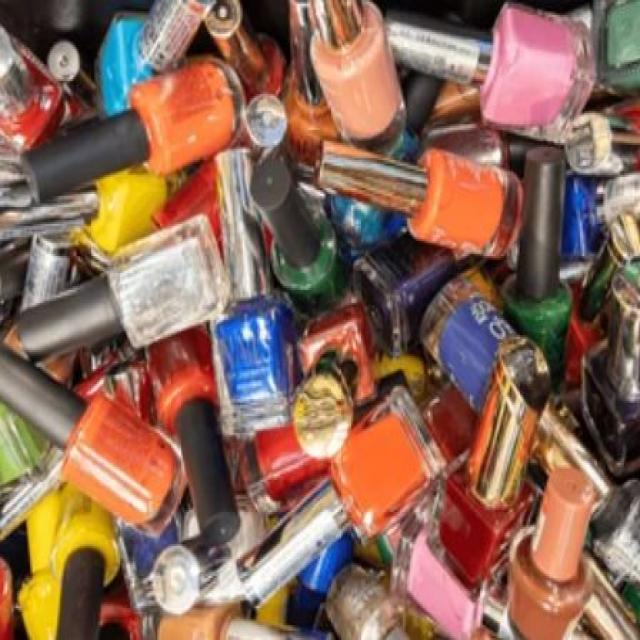electronic: (20, 53, 244, 208)
